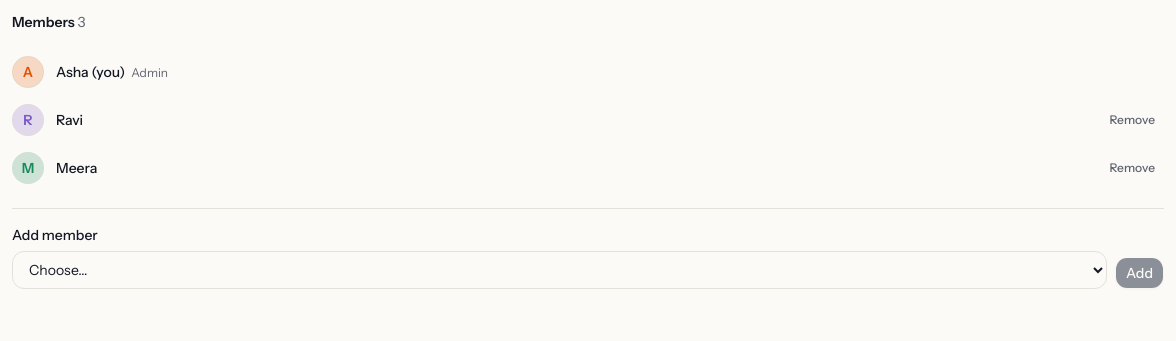
GroupMembers › shows the safe message when a change is refused
Select "Dev" in the dropdown labelled "Add member" at (560, 270), box [12, 251, 1107, 289]
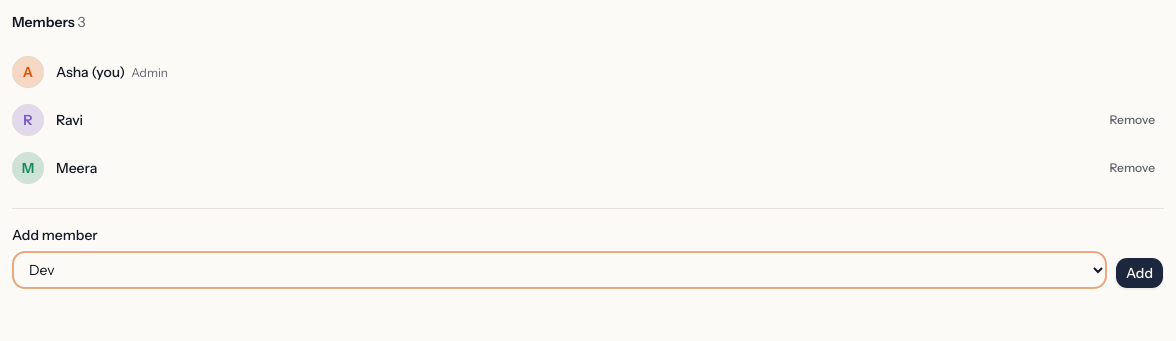
Click the button "Add" at (1140, 273), box [1115, 257, 1164, 289]
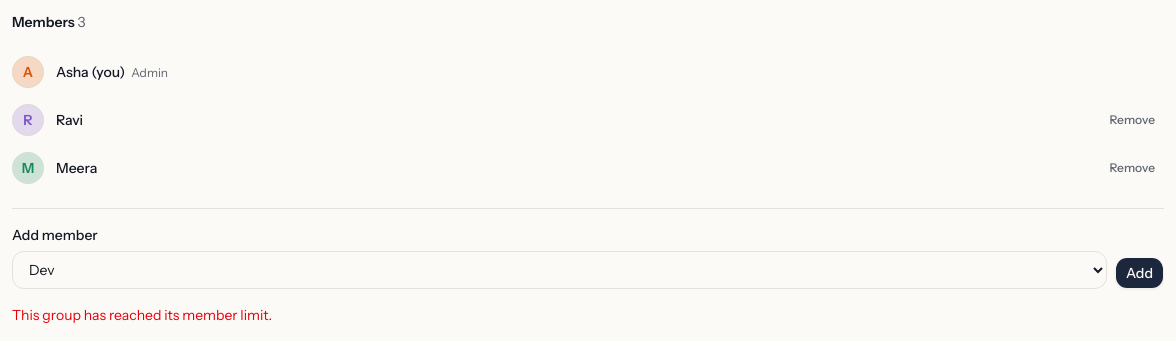
Check: the message shows "member limit", box [12, 306, 272, 324]
